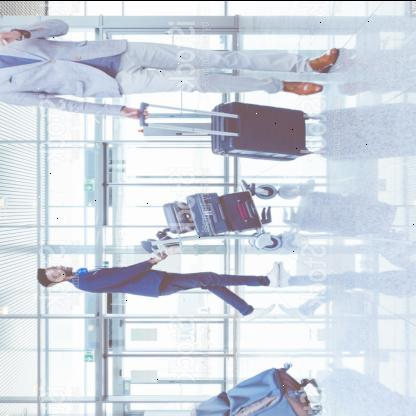airport-trolley: (136, 172, 284, 254)
